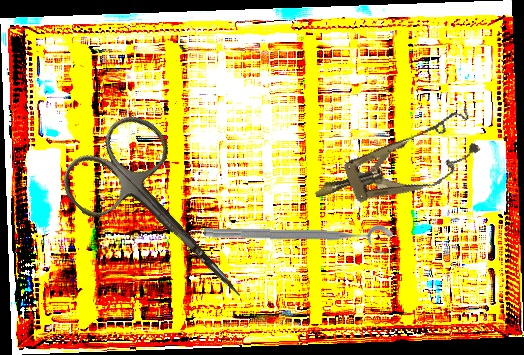Fixation Ring: (203, 222, 394, 257)
Iris Scissors: (52, 104, 280, 336)
Speculum: (304, 106, 488, 225)
